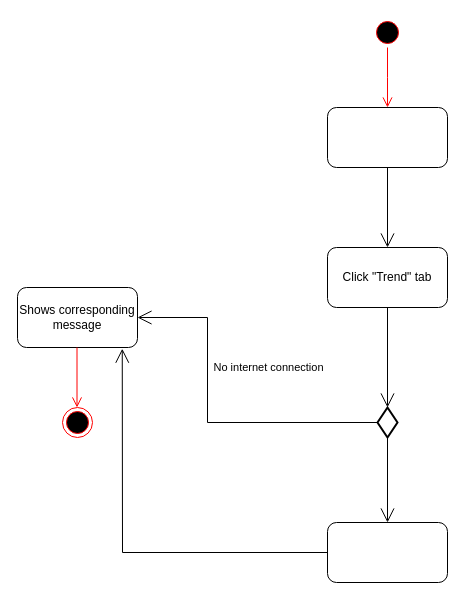
Image size: 465x600. Some labels were removed from this diagram. Each missing label, with the centre of its shape:
Open "Trend" tab: [387,552]
Open Website: [387,137]
